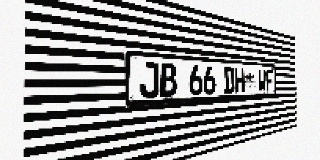6: (189, 65, 203, 95), (203, 66, 216, 95)
B: (160, 63, 177, 97)
D: (224, 67, 235, 94)
F: (266, 69, 273, 91)
H: (234, 67, 244, 93)
J: (140, 62, 159, 98)
W: (258, 69, 266, 92)
